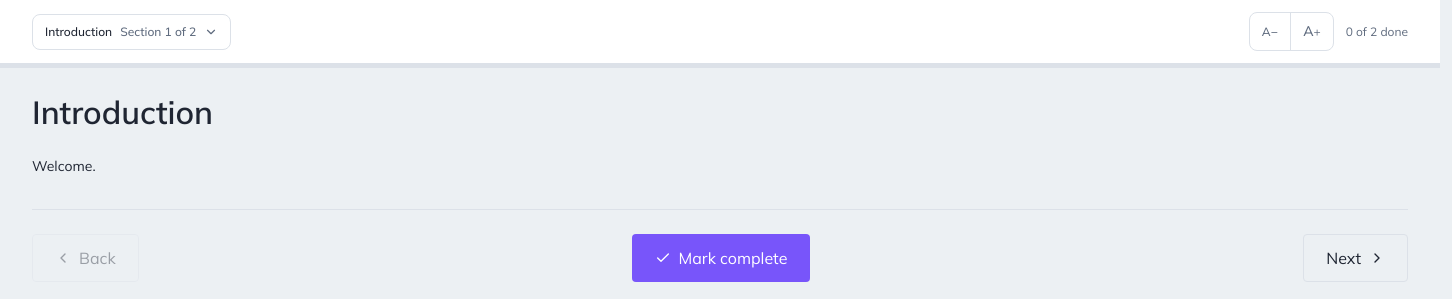
Test: loads the first page, then navigates to the next page on click
This screenshot has width=1452, height=299.
Check: the text "Welcome." is shown, box [32,157,96,175]
Click the button "Next": (1356, 258) [1303,234,1408,282]
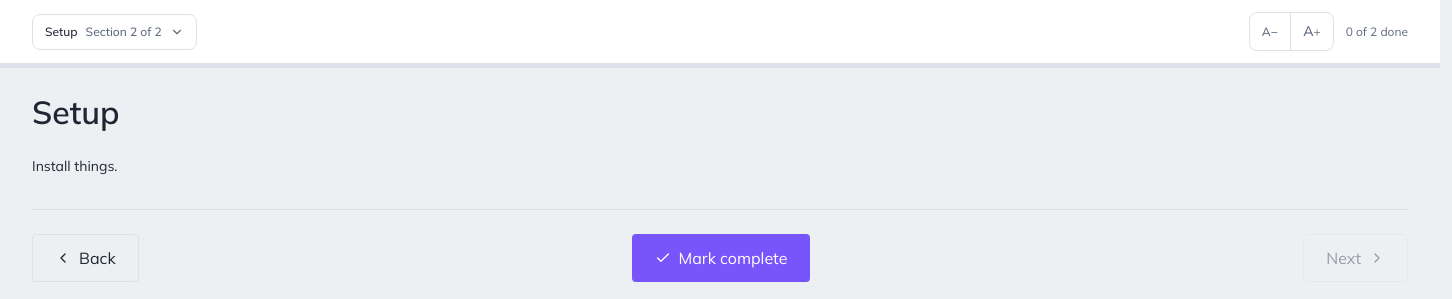
Check: the text "Install things." is shown, box [32,157,118,175]
